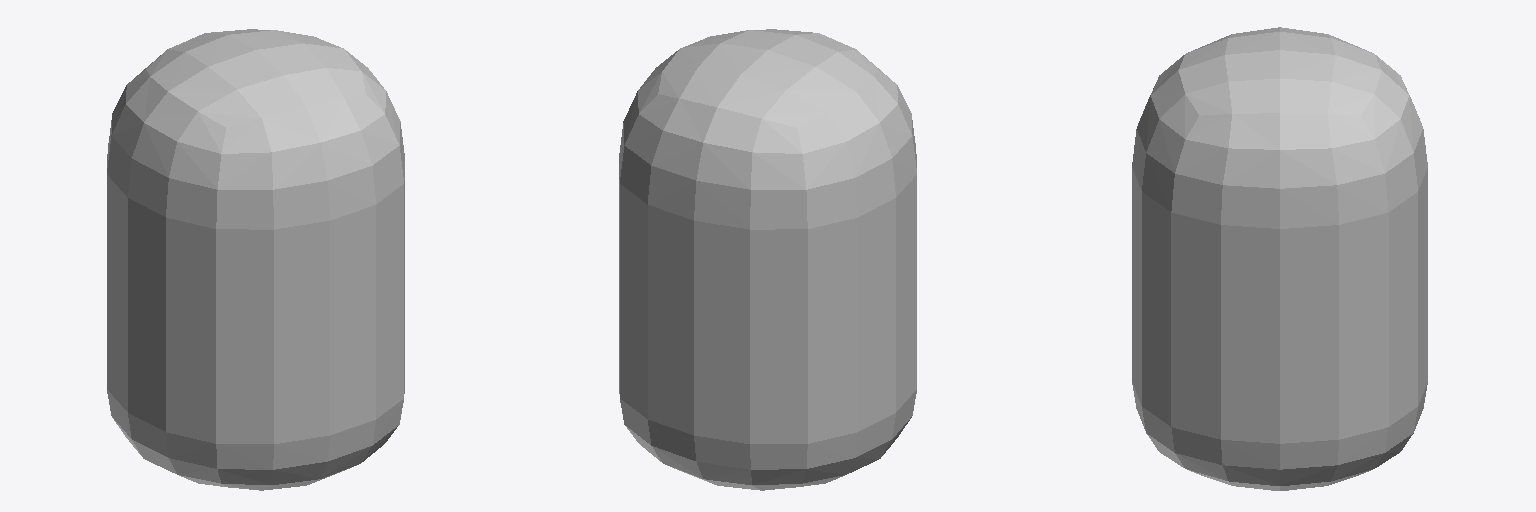
Rendered from body.obj.
3 renders of one model, left to right at view 1: azimuth 30°, elevation 25°; view 2: azimuth 150°, elevation 25°; view 3: azimuth 270°, elevation 25°, orthographic.
Parts seen in each view (by area): view 1: Cube.001; view 2: Cube.001; view 3: Cube.001.
Boxes of the visible parts, x1=… form: Cube.001: x1=107, y1=29, x2=404, y2=490; Cube.001: x1=619, y1=29, x2=916, y2=490; Cube.001: x1=1132, y1=27, x2=1427, y2=490.
Bounding box in the file's own units: 1.88 × 2.88 × 1.88.